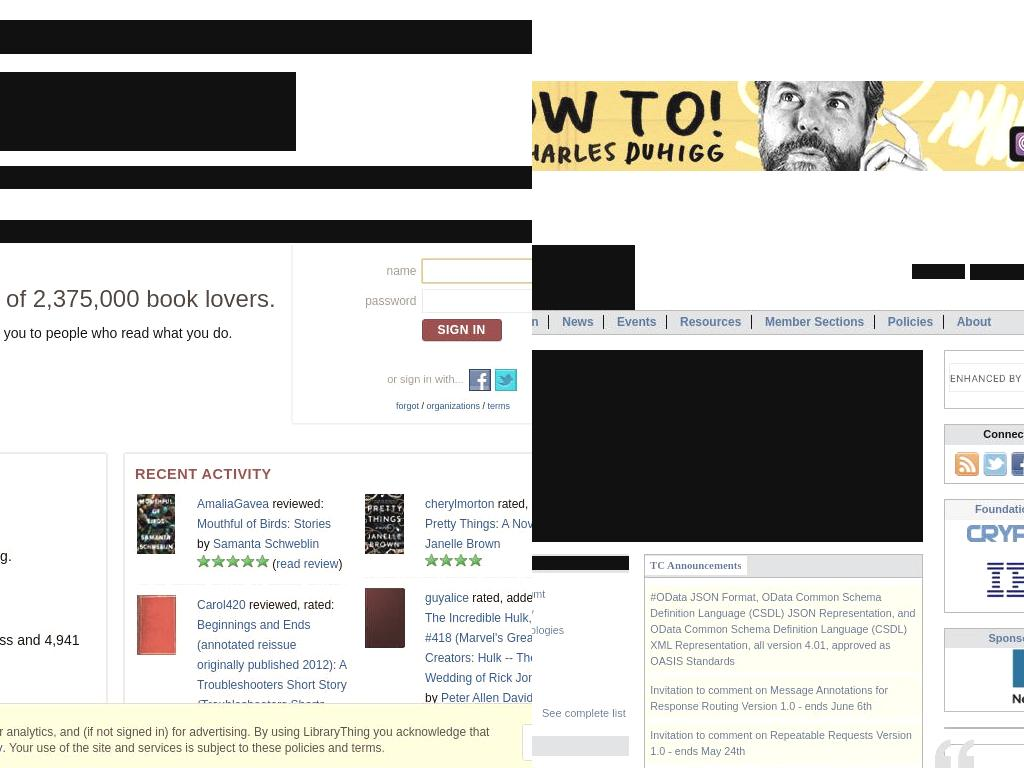button: (955, 451, 979, 476), (983, 451, 1007, 476), (1011, 451, 1024, 476)
field: (421, 259, 532, 283), (421, 289, 532, 313), (421, 319, 502, 341), (950, 369, 1024, 387), (970, 264, 1024, 280)
heading: (0, 20, 532, 54), (135, 464, 532, 484), (0, 285, 276, 313), (0, 464, 96, 484), (0, 598, 96, 618), (764, 315, 865, 331), (532, 556, 629, 570), (532, 739, 629, 753), (945, 428, 1024, 441), (680, 315, 742, 331), (887, 315, 934, 331), (617, 315, 657, 331), (975, 503, 1024, 516), (956, 315, 992, 331), (562, 315, 595, 331), (988, 631, 1024, 644), (532, 315, 539, 331)
iframe: (532, 81, 1024, 172), (0, 72, 296, 151)
image: (532, 350, 923, 542), (532, 245, 635, 310), (970, 648, 1024, 707), (365, 588, 405, 648), (137, 595, 176, 655), (365, 494, 404, 554), (137, 494, 175, 554), (983, 556, 1024, 602), (365, 742, 407, 768), (966, 524, 1024, 542), (197, 555, 269, 568), (425, 554, 482, 567), (425, 708, 481, 721), (197, 756, 239, 768), (468, 369, 489, 389), (494, 369, 515, 389)
label: (912, 264, 965, 279)
link: (650, 591, 917, 668), (197, 618, 347, 732), (425, 611, 532, 685), (650, 728, 913, 757), (650, 683, 889, 712), (197, 517, 331, 531), (197, 738, 308, 752), (213, 537, 320, 551), (425, 517, 532, 531), (441, 691, 532, 705), (650, 558, 742, 571), (542, 707, 627, 720), (425, 537, 500, 551), (197, 497, 269, 511), (425, 497, 494, 511), (276, 557, 339, 571), (197, 598, 246, 612), (425, 745, 472, 759), (246, 758, 309, 768), (425, 591, 469, 605), (426, 401, 481, 411), (532, 624, 564, 637), (425, 765, 528, 768), (395, 401, 419, 411), (487, 401, 510, 411)
text: (0, 725, 489, 755), (0, 166, 532, 189), (0, 220, 532, 243), (0, 323, 276, 343), (2, 741, 385, 755), (364, 256, 422, 286), (364, 286, 422, 316), (245, 598, 334, 612), (387, 372, 468, 385), (469, 591, 532, 605), (471, 745, 532, 759), (269, 497, 325, 511), (494, 497, 532, 511), (311, 718, 328, 732), (197, 537, 213, 551), (425, 691, 441, 705), (269, 557, 276, 571), (480, 401, 489, 411), (418, 401, 426, 411), (338, 557, 343, 571), (239, 758, 246, 768), (308, 758, 313, 768)
